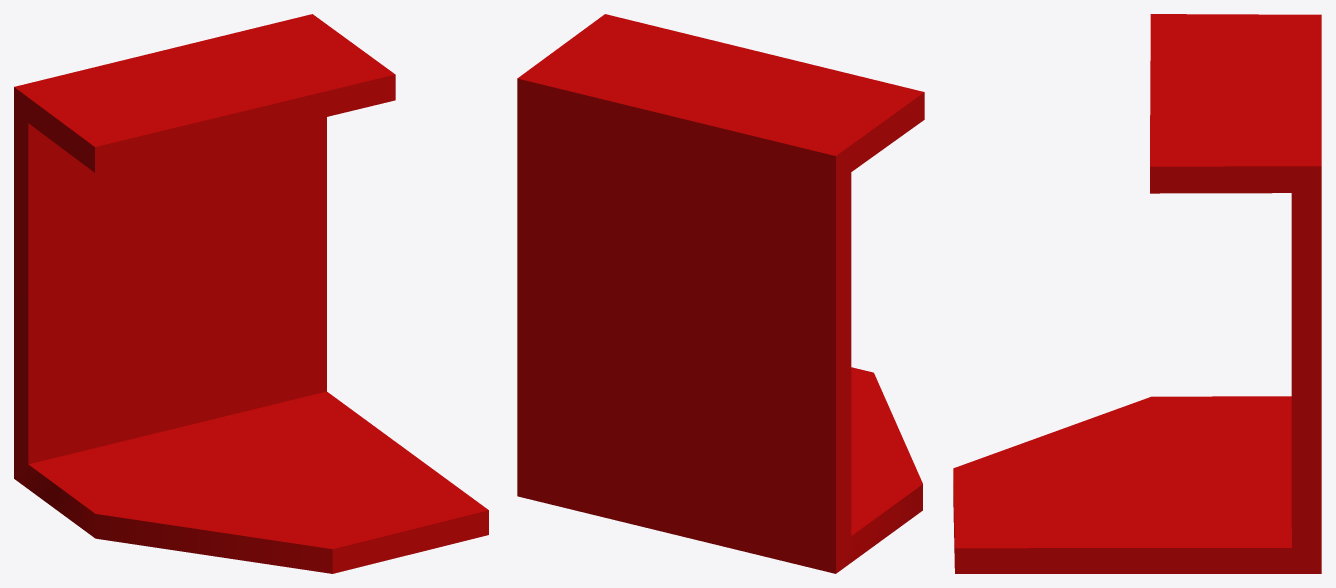
File: endpoint_bracket_collision.dae
3 renders of one model, left to right at view 1: azimuth 30°, elevation 25°; view 2: azimuth 150°, elevation 25°; view 3: azimuth 270°, elevation 25°, orthographic. The views are drawn at different scales.
Parts seen in each view (by area): view 1: endpoint_bracket_collision; view 2: endpoint_bracket_collision; view 3: endpoint_bracket_collision.
Part boxes in pixels (x1,y1,x2,y2): endpoint_bracket_collision: (14, 14, 488, 573); endpoint_bracket_collision: (517, 14, 924, 573); endpoint_bracket_collision: (953, 14, 1321, 573).
Bounding box in the file's own units: 0.0402 × 0.0502 × 0.0411.
